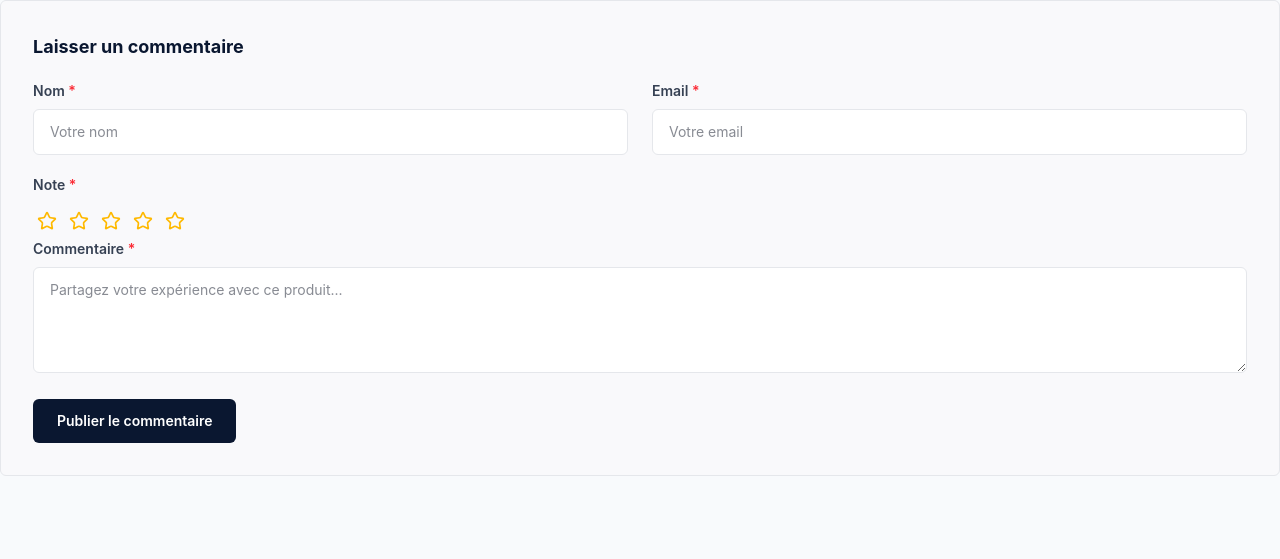
Test: ReviewForm › erreur si nom trop court
The image size is (1280, 559).
Type "J" into the field labelled "Nom *".
click(330, 132); type("J")  # box [33, 109, 628, 155]
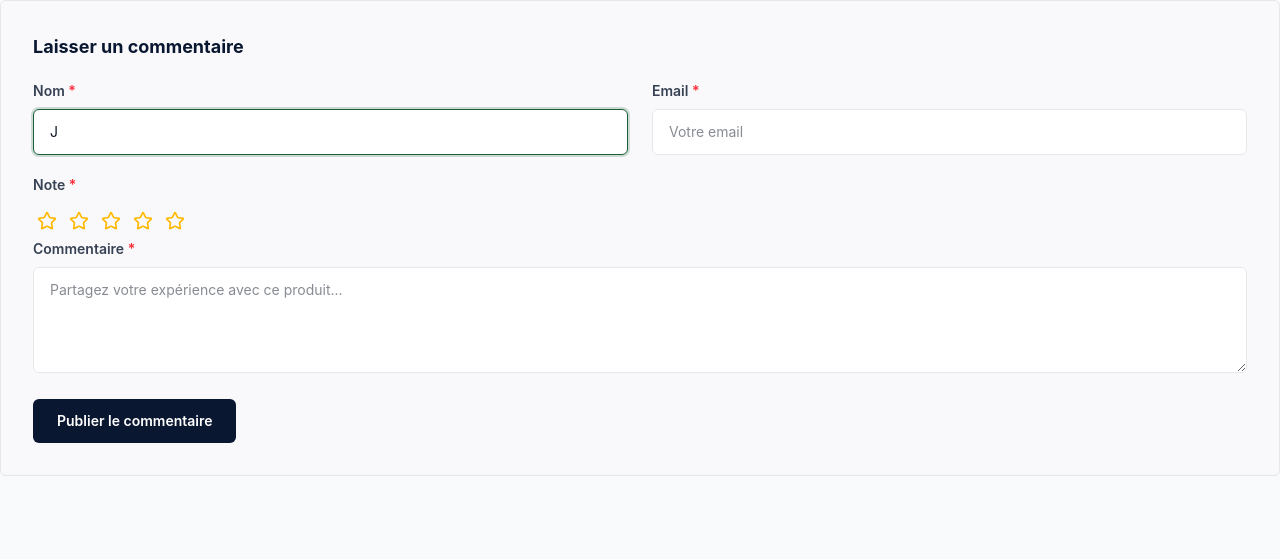
Type "Bon produit" into the text box labelled "Commentaire *".
click(640, 320); type("Bon produit")  # box [33, 267, 1247, 373]
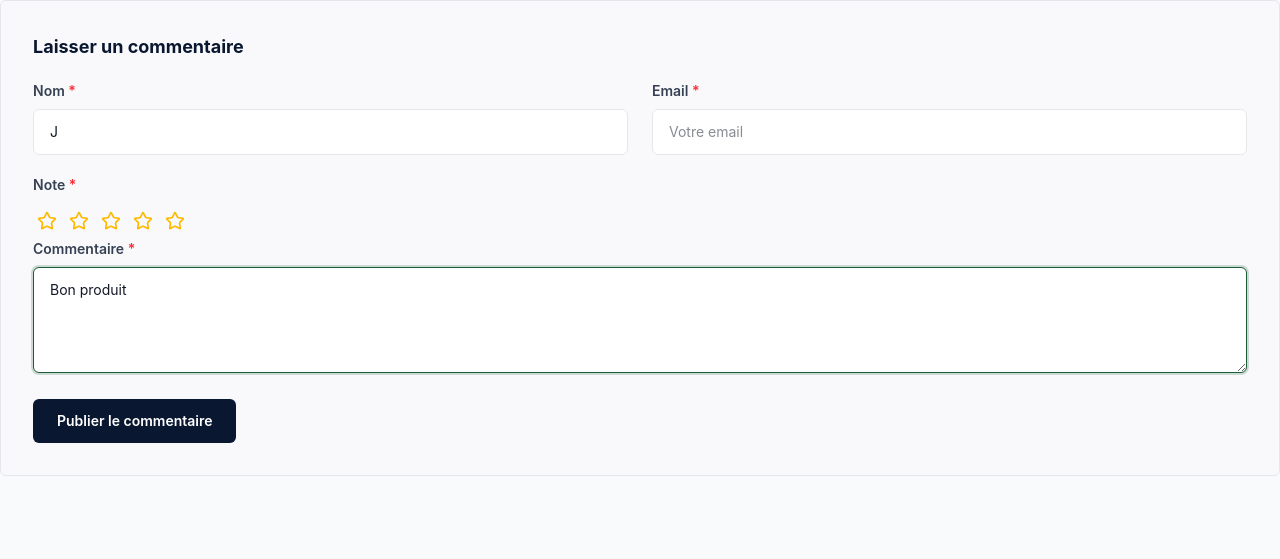
Click the button named "3 étoiles sur 5".
click(111, 221)  # box [97, 207, 125, 235]
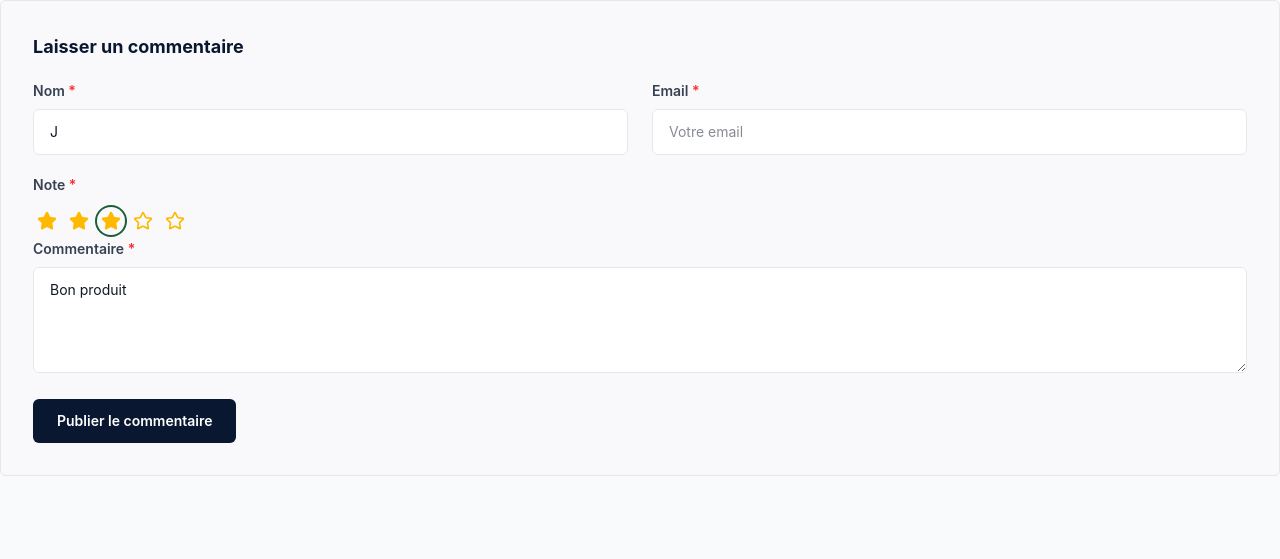
Click the button "Publier le commentaire".
click(135, 421)  # box [33, 399, 236, 443]
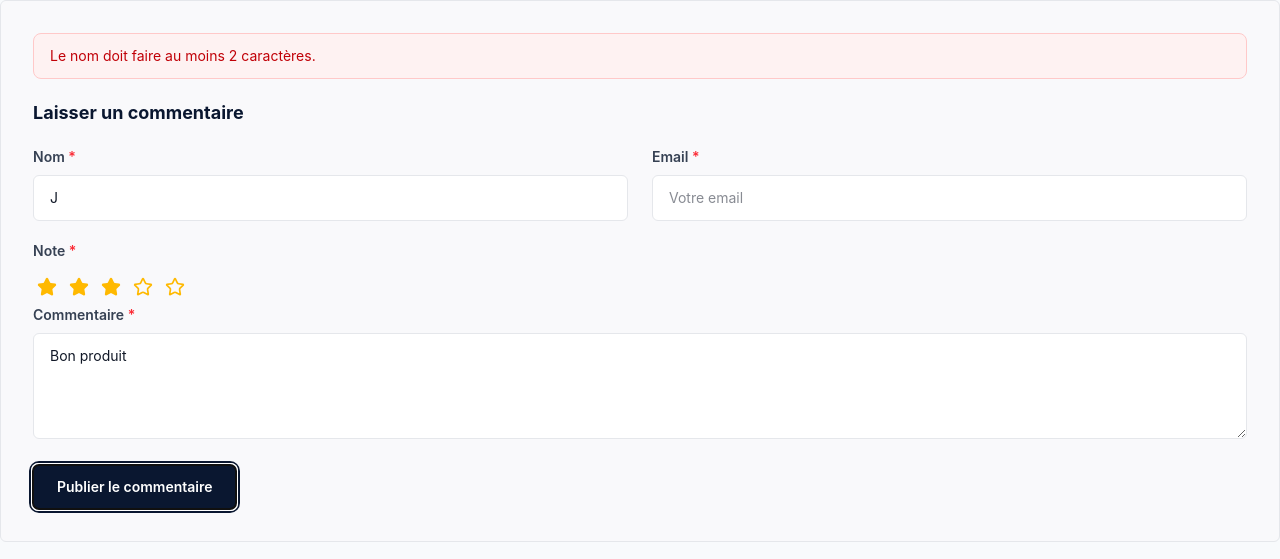
Now the message shows "nom doit faire au moins 2", box [50, 47, 316, 64]
